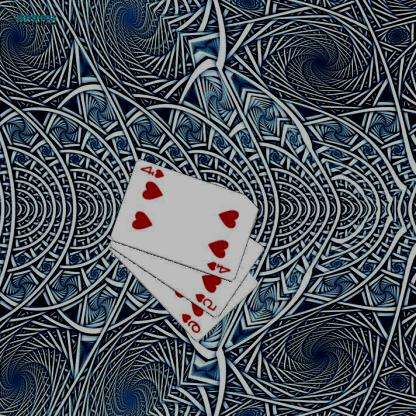4H: (140, 164, 167, 180), (206, 260, 234, 274)
5H: (194, 291, 219, 313)
9H: (180, 311, 204, 335)
